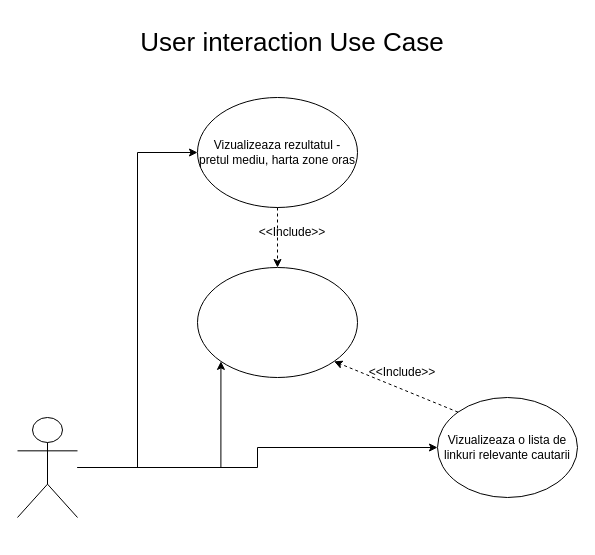
Image size: 595x555. Some labels were removed from this diagram. Each missing label, with the box of its shape:
Introduce date (apartament,casa,zona etc): (196, 266, 358, 378)
User: (16, 416, 78, 518)
